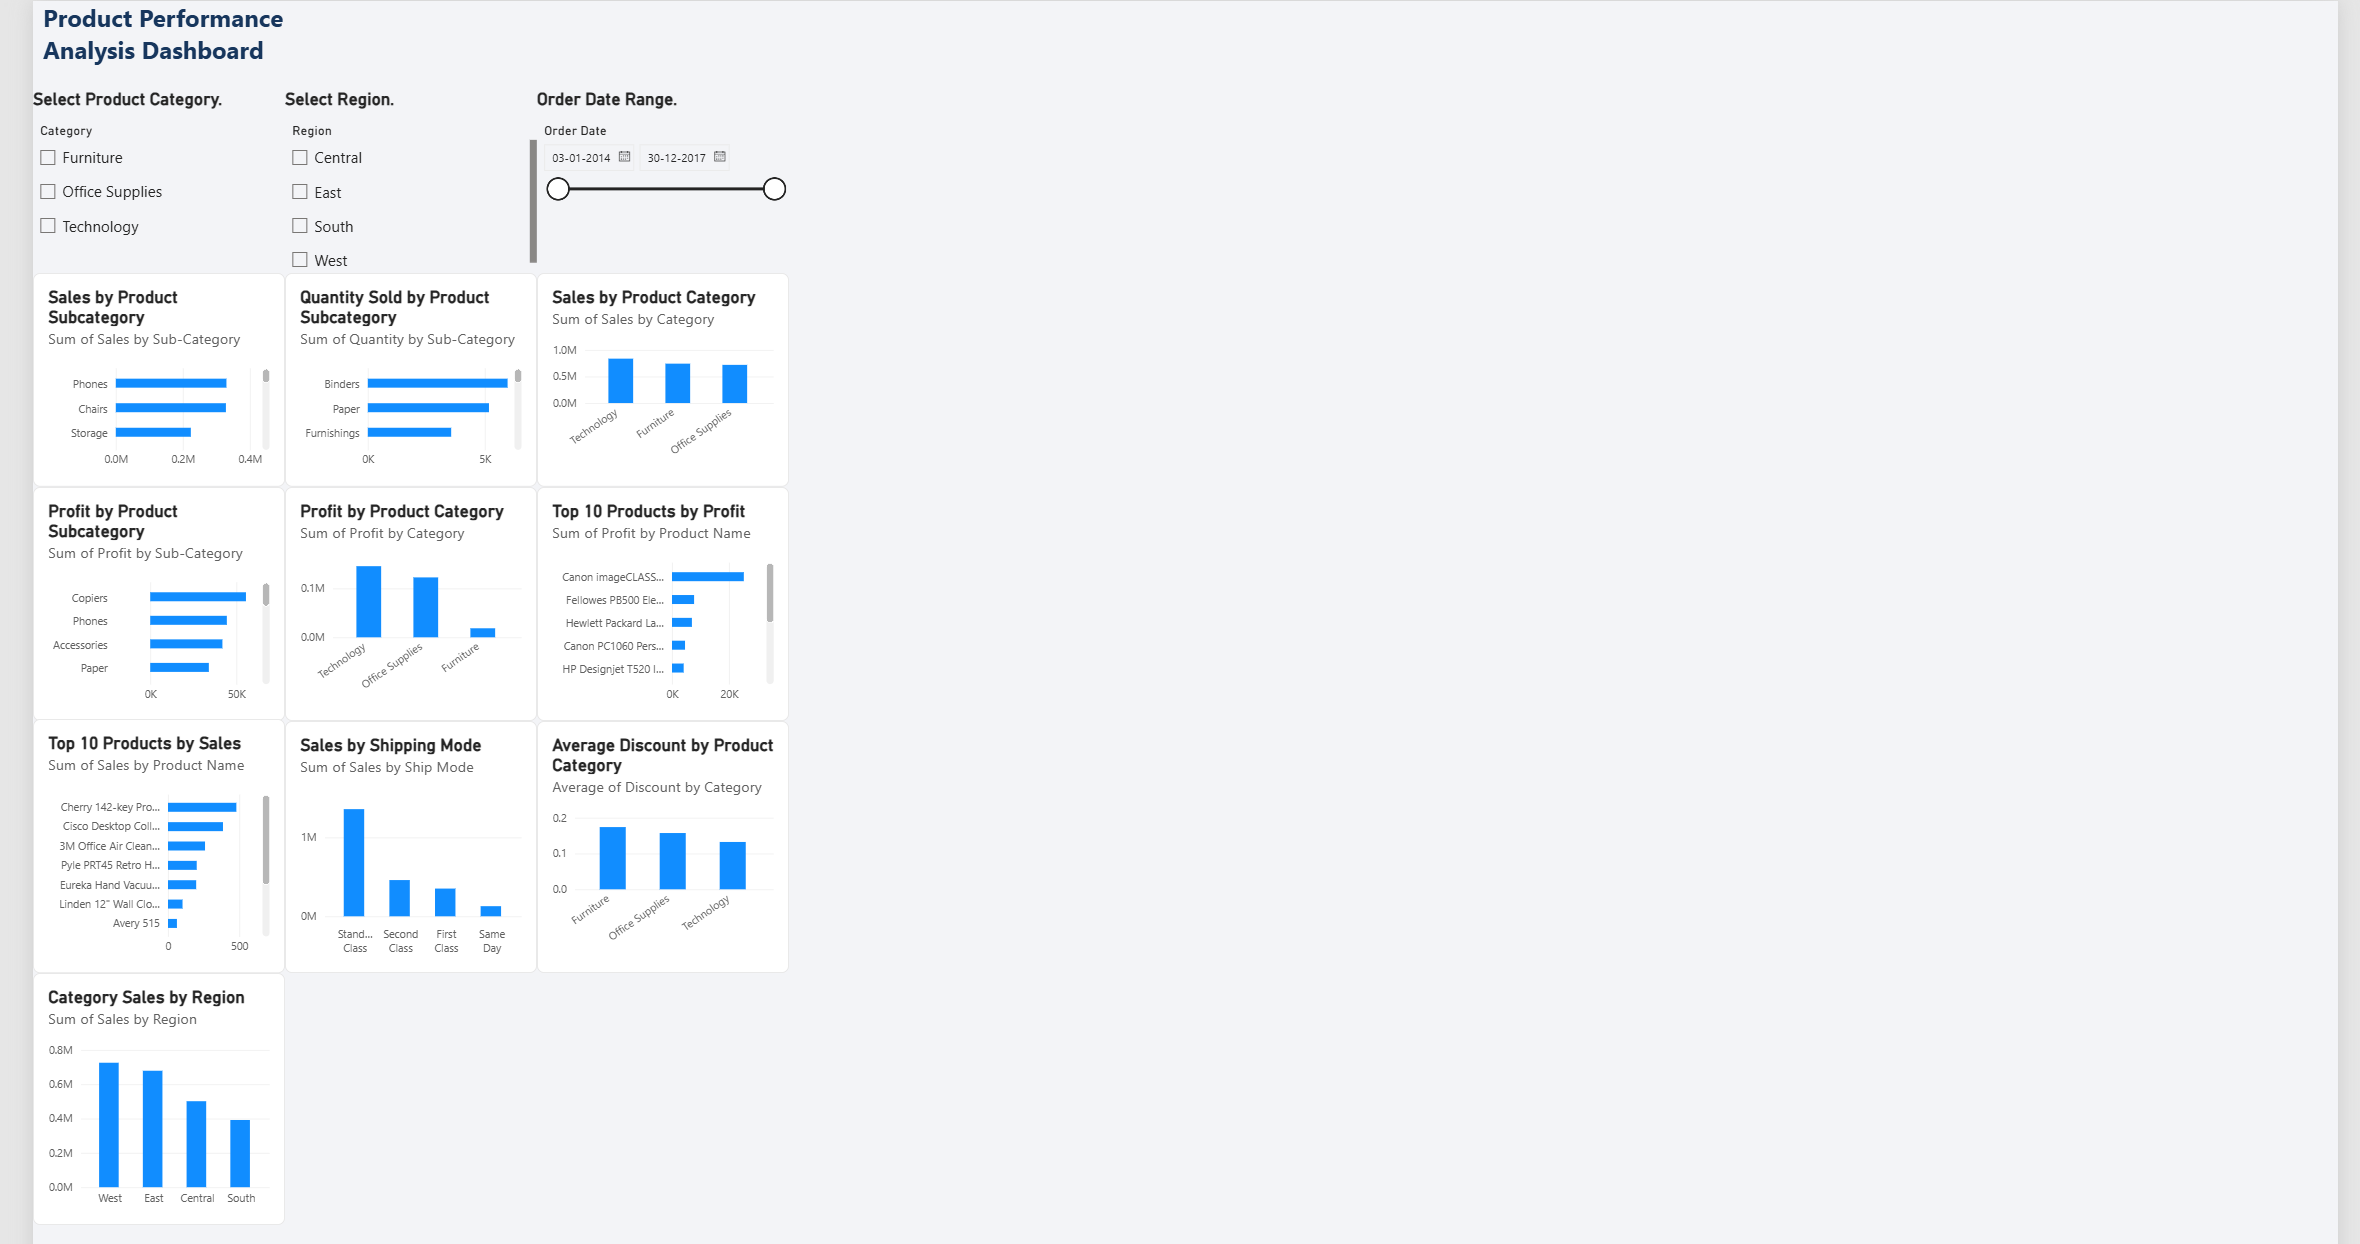

This screenshot's page, from the dashboard's own definition file:
{"tool":"powerbi","page":{"name":"Product Analysis","canvas":[2560,1440],"ordinal":2},"visuals":[{"type":"textbox","box":[10,0,280,280],"z":0},{"type":"clusteredBarChart","title":"Sales by Product Subcategory","fields":{"Category":["Sample - Superstore.Sub-Category"],"Y":["Sum(Sample - Superstore.Sales)"]},"box":[0,302.5,280,237.5],"z":1},{"type":"clusteredBarChart","title":"Profit by Product Subcategory","fields":{"Category":["Sample - Superstore.Sub-Category"],"Y":["Sum(Sample - Superstore.Profit)"]},"box":[0,540,280,260],"z":2},{"type":"clusteredBarChart","title":"Quantity Sold by Product Subcategory","fields":{"Category":["Sample - Superstore.Sub-Category"],"Y":["Sum(Sample - Superstore.Quantity)"]},"box":[280,302.5,280,237.5],"z":3},{"type":"clusteredColumnChart","title":"Sales by Product Category","fields":{"Category":["Sample - Superstore.Category"],"Y":["Sum(Sample - Superstore.Sales)"]},"box":[560,302.5,280,237.5],"z":4},{"type":"clusteredColumnChart","title":"Profit by Product Category","fields":{"Category":["Sample - Superstore.Category"],"Y":["Sum(Sample - Superstore.Profit)"]},"box":[280,540,280,260],"z":5},{"type":"clusteredBarChart","title":"Top 10 Products by Sales","fields":{"Category":["Sample - Superstore.Product Name"],"Y":["Sum(Sample - Superstore.Sales)"]},"box":[0,797.5,280,282.5],"z":6},{"type":"clusteredColumnChart","title":"Sales by Shipping Mode","fields":{"Category":["Sample - Superstore.Ship Mode"],"Y":["Sum(Sample - Superstore.Sales)"]},"box":[280,800,280,280],"z":7},{"type":"clusteredColumnChart","title":"Average Discount by Product Category","fields":{"Category":["Sample - Superstore.Category"],"Y":["Avg(Sample - Superstore.Discount)"]},"box":[560,800,280,280],"z":8},{"type":"clusteredBarChart","title":"Top 10 Products by Profit","fields":{"Category":["Sample - Superstore.Product Name"],"Y":["Sum(Sample - Superstore.Profit)"]},"box":[560,540,280,260],"z":9},{"type":"columnChart","title":"Category Sales by Region","fields":{"Category":["Sample - Superstore.Region"],"Y":["Sum(Sample - Superstore.Sales)"]},"box":[0,1080,280,280],"z":10},{"type":"slicer","title":"Select Product Category.","fields":{"Values":["Sample - Superstore.Category"]},"box":[0,97.5,280,205],"z":11},{"type":"slicer","title":"Select Region.","fields":{"Values":["Sample - Superstore.Region"]},"box":[280,97.5,280,205],"z":12},{"type":"slicer","title":"Order Date Range.","fields":{"Values":["Sample - Superstore.Order Date"]},"box":[560,97.5,280,205],"z":13}]}

Visuals, with their boxes on the page's 2560x1440 design canvas (x1, y1, x2, y2). These are canvas units, not pixel positions in the 2360x1244 screenshot, which may show the page scaled, cropped or inside an application window:
textbox: Rect(10, 0, 290, 280)
"Sales by Product Subcategory" clusteredBarChart: Rect(0, 302, 280, 540)
"Profit by Product Subcategory" clusteredBarChart: Rect(0, 540, 280, 800)
"Quantity Sold by Product Subcategory" clusteredBarChart: Rect(280, 302, 560, 540)
"Sales by Product Category" clusteredColumnChart: Rect(560, 302, 840, 540)
"Profit by Product Category" clusteredColumnChart: Rect(280, 540, 560, 800)
"Top 10 Products by Sales" clusteredBarChart: Rect(0, 798, 280, 1080)
"Sales by Shipping Mode" clusteredColumnChart: Rect(280, 800, 560, 1080)
"Average Discount by Product Category" clusteredColumnChart: Rect(560, 800, 840, 1080)
"Top 10 Products by Profit" clusteredBarChart: Rect(560, 540, 840, 800)
"Category Sales by Region" columnChart: Rect(0, 1080, 280, 1360)
"Select Product Category." slicer: Rect(0, 98, 280, 302)
"Select Region." slicer: Rect(280, 98, 560, 302)
"Order Date Range." slicer: Rect(560, 98, 840, 302)
